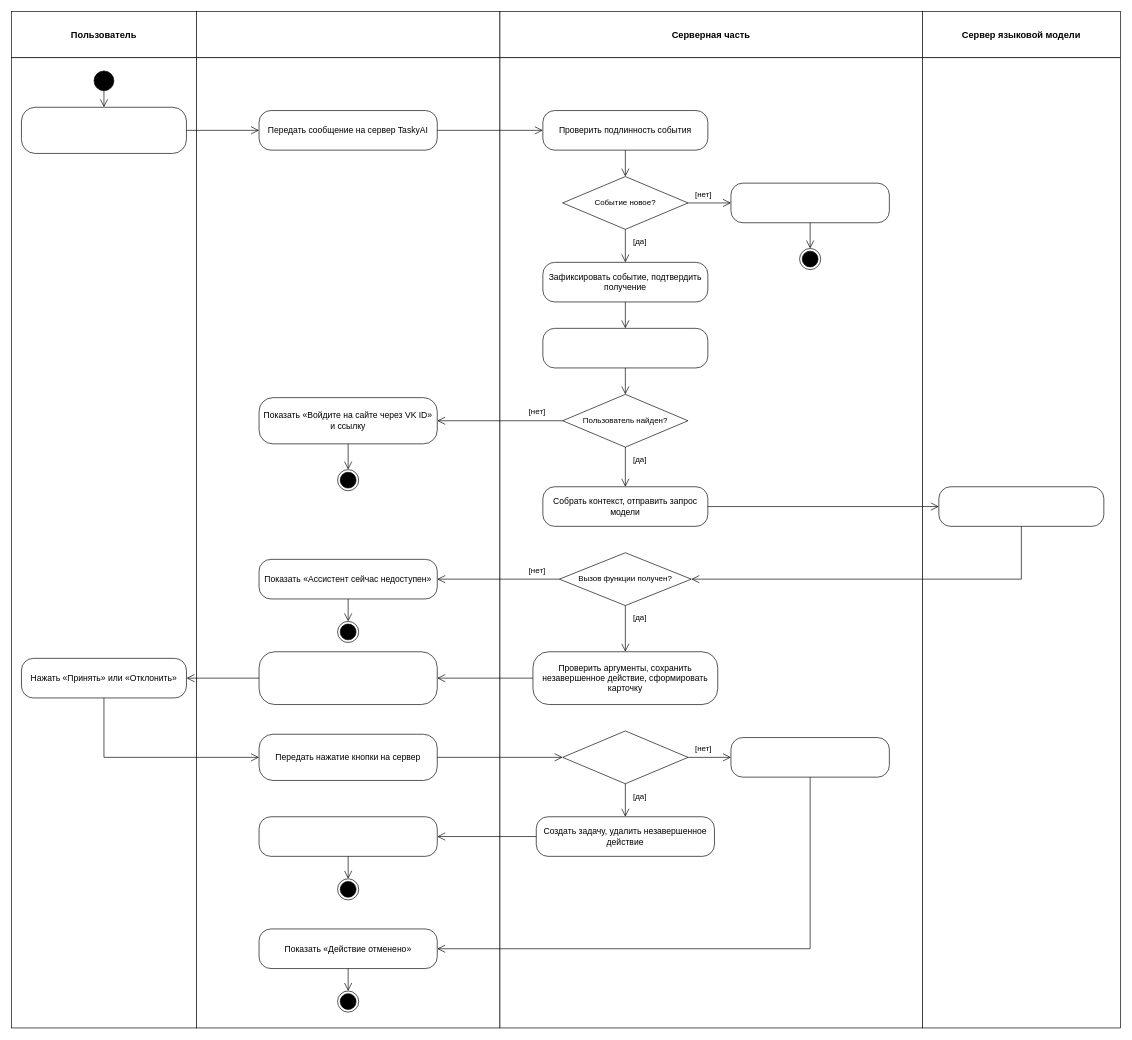
This 1132x1040 diagram has some shape labels left out. Each missing label, with the box of its shape:
Вернуть вызов функции создания задачи: (938, 486, 1104, 526)
Клиентская часть (VK, сообщество TaskyAI): (196, 11, 500, 58)
Нажата «Принять»?: (562, 730, 688, 784)
Найти учетную запись пользователя: (542, 328, 708, 368)
Написать боту «Купить молоко завтра в 18:00»: (21, 107, 186, 153)
Подтвердить получение без обработки: (730, 182, 889, 223)
Показать «Задача создана»: (258, 816, 437, 856)
Показать карточку «Купить молоко», завтра 18:00, кнопки «Принять» и «Отклонить»: (258, 651, 437, 705)
Удалить незавершенное действие: (730, 737, 889, 777)
